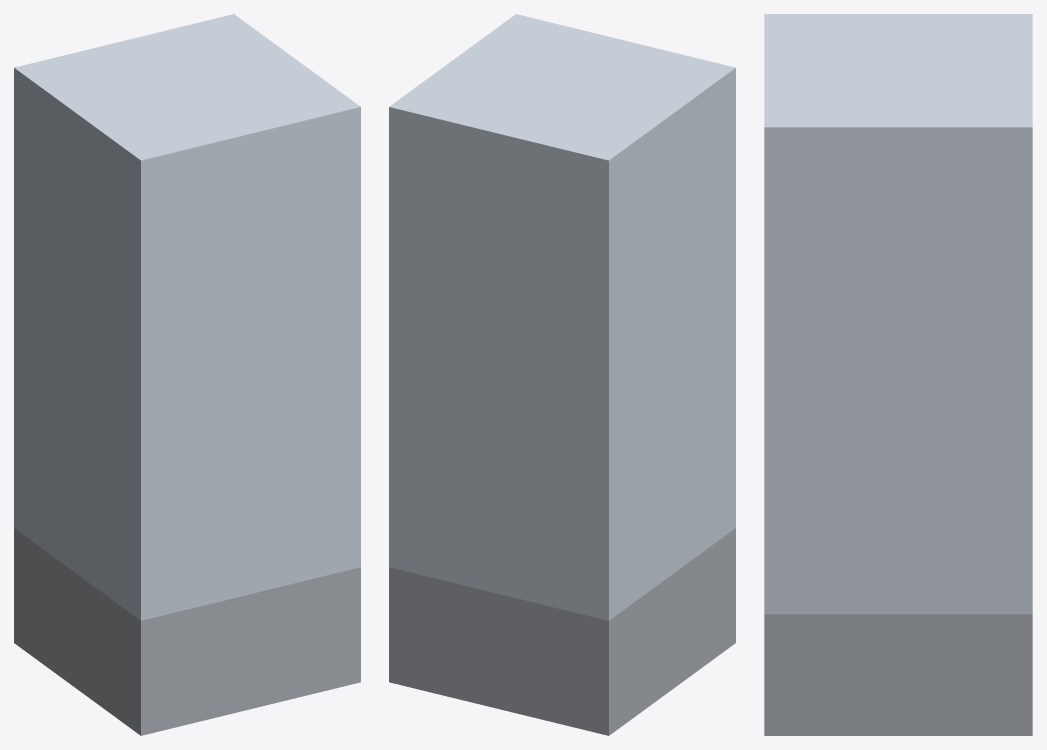
File: salt.glb
The picture shows the model from 3 angles, left to right: view 1: azimuth 30°, elevation 25°; view 2: azimuth 150°, elevation 25°; view 3: azimuth 270°, elevation 25°; orthographic projection. The views are drawn at different scales.
Visible parts, largest first — view 1: salt; view 2: salt; view 3: salt.
Part boxes in pixels (x1,y1,x2,y2): salt: (14, 14, 360, 735); salt: (389, 14, 735, 735); salt: (764, 14, 1032, 735).
Size of the model in its own units: 0.1 by 0.25 by 0.1.
1 material, 1 textured.
